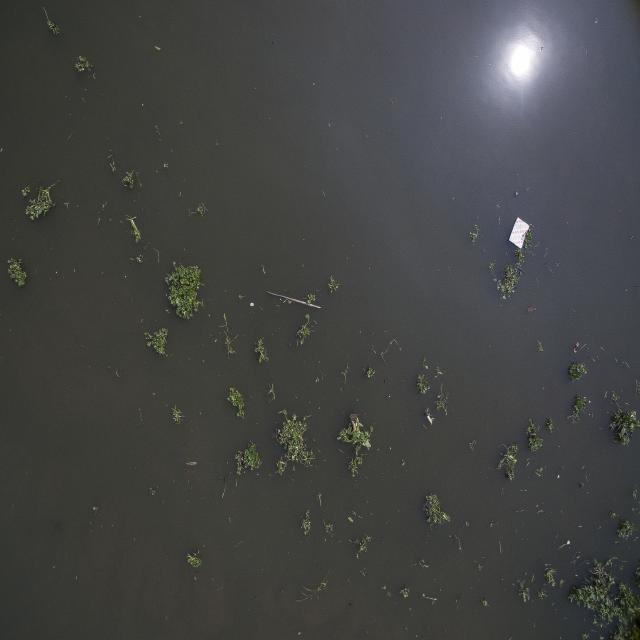Plastic: (509, 215, 530, 250)
